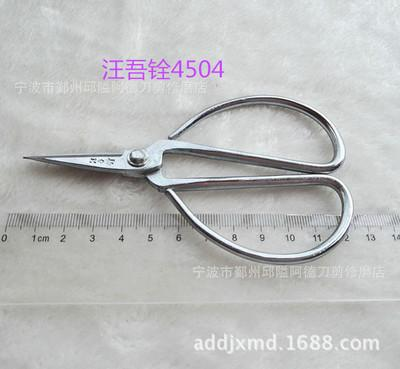scissor: (19, 92, 353, 264)
